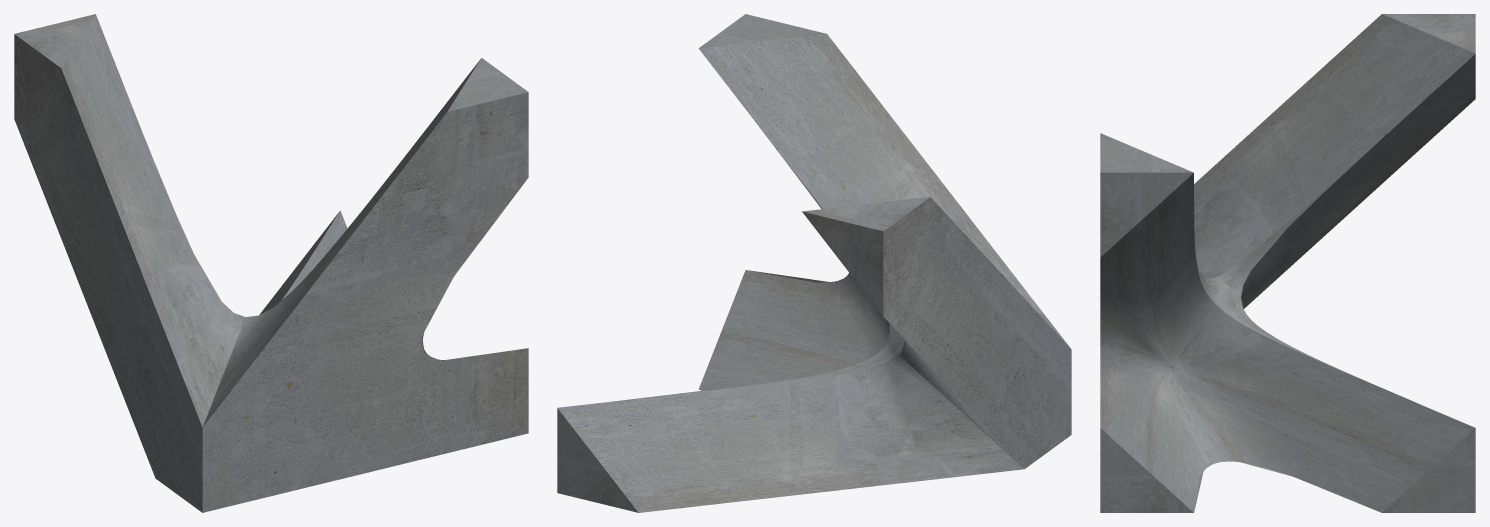
The model's file is module_R2.fbx.
The picture shows the model from 3 angles, left to right: view 1: azimuth 30°, elevation 25°; view 2: azimuth 150°, elevation 25°; view 3: azimuth 270°, elevation 25°; orthographic projection.
Parts seen in each view (by area): view 1: modules; view 2: modules; view 3: modules.
Part boxes in pixels (x1=…): modules: x1=14, y1=14, x2=528, y2=512; modules: x1=557, y1=14, x2=1071, y2=512; modules: x1=1100, y1=14, x2=1475, y2=512.
Size of the model in its own units: 1000 by 1000 by 1000.
Materials: 1 (1 with a texture image).
